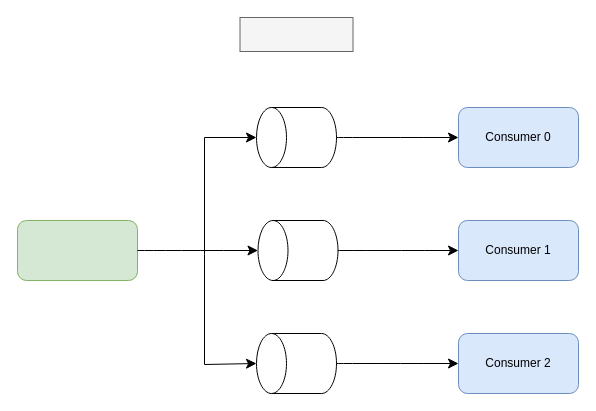
This 596x411 diagram has some shape labels left out. The centre of each missing label's shape, as x and y in pixels:
"Fan-out" goes at (x=296, y=34).
"Producer 0" goes at (x=77, y=250).
